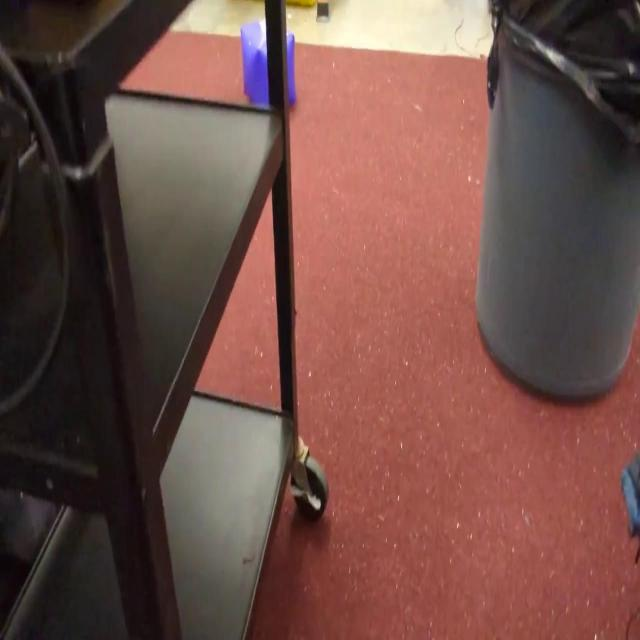frc_cube: (241, 19, 296, 108)
